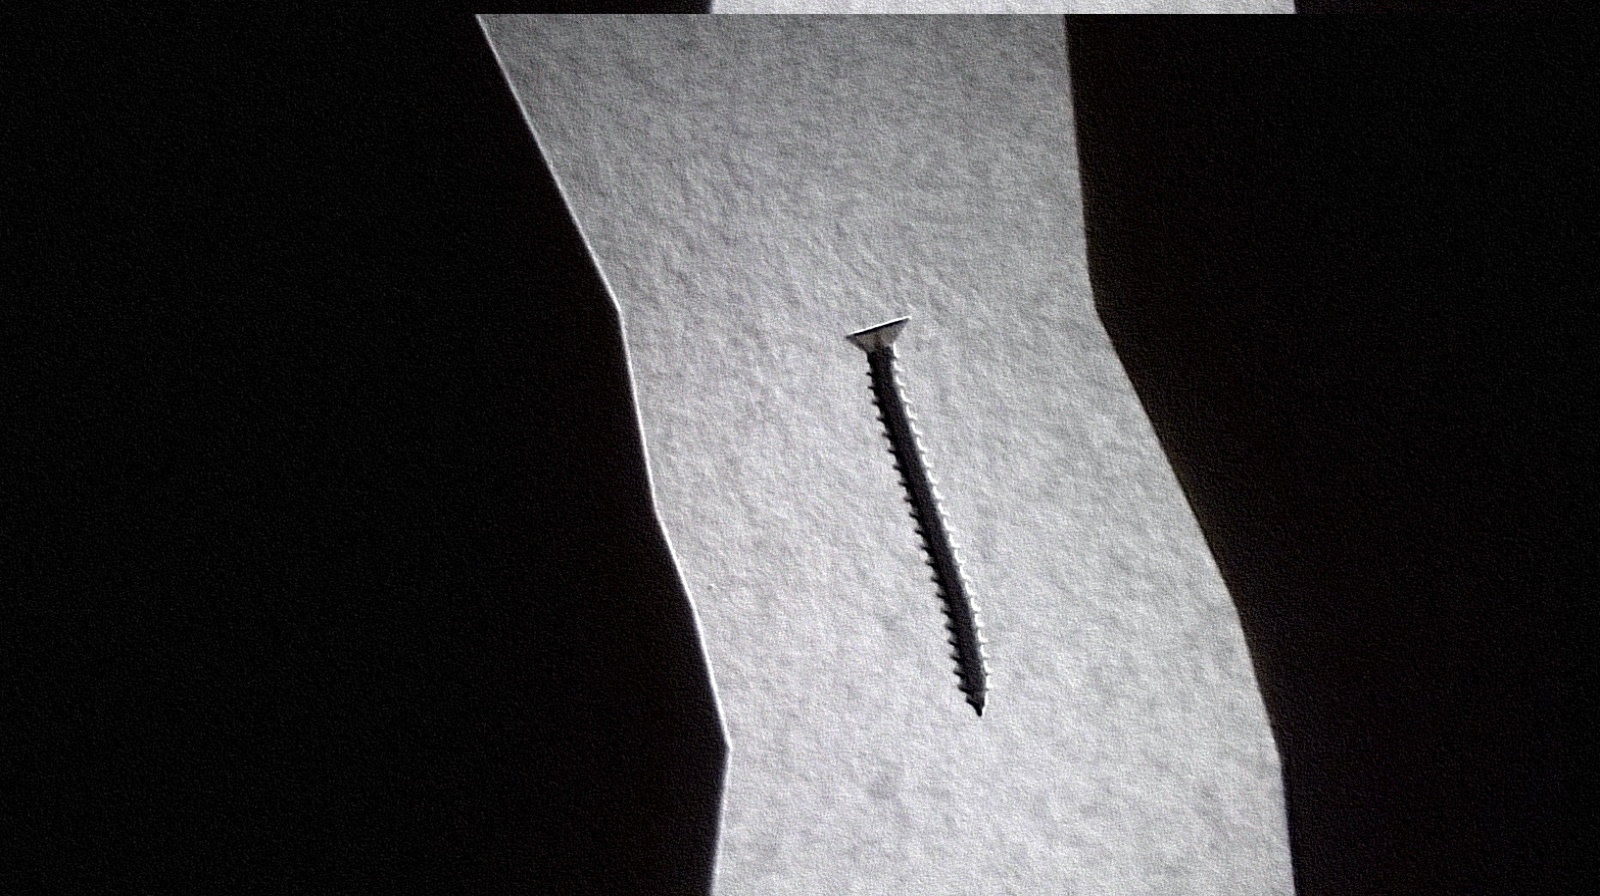S002: (834, 314, 1011, 719)
